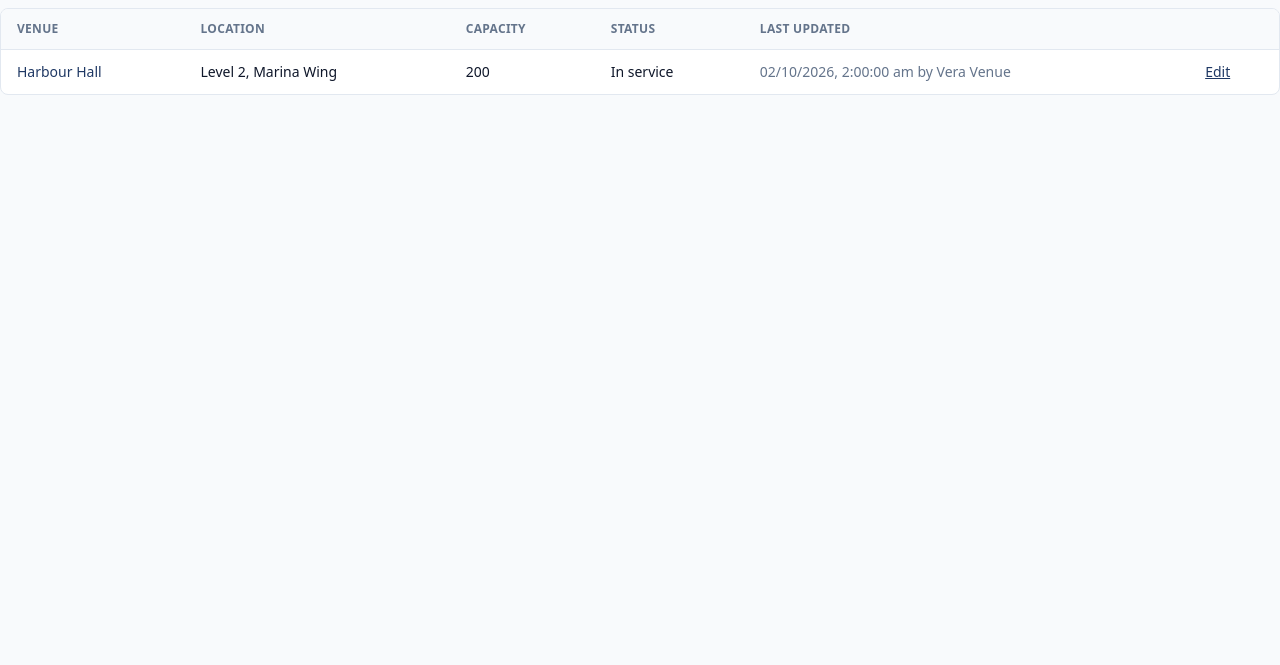
VenueCatalogue (SCRUM-65) › AC2: an update shows who saved it and when
Click the button with aria-label "Edit Harbour Hall" at point(1218, 72), box x1=1205 y1=62 x2=1230 y2=82
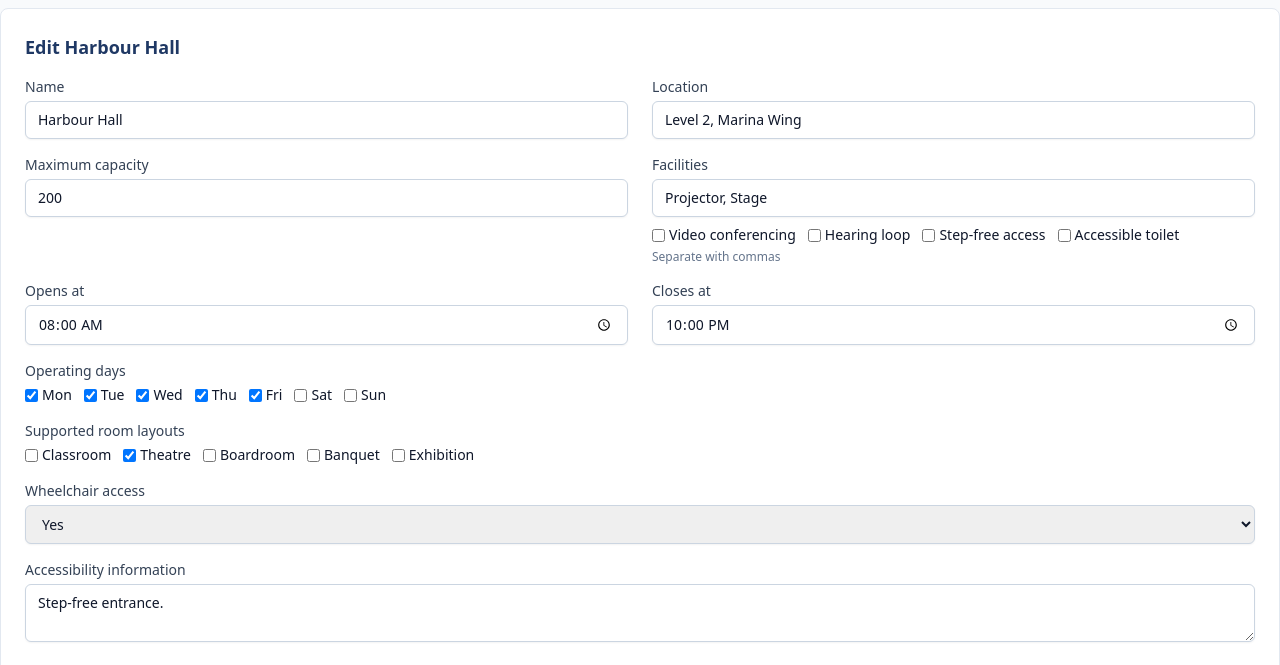
Now the time field labelled "Opens at" holds "08:00", box x1=25 y1=305 x2=628 y2=345
Replace the text in the number field labelled "Maximum capacity" with "220" at point(326, 198), box x1=25 y1=179 x2=628 y2=217
(page scrolled)
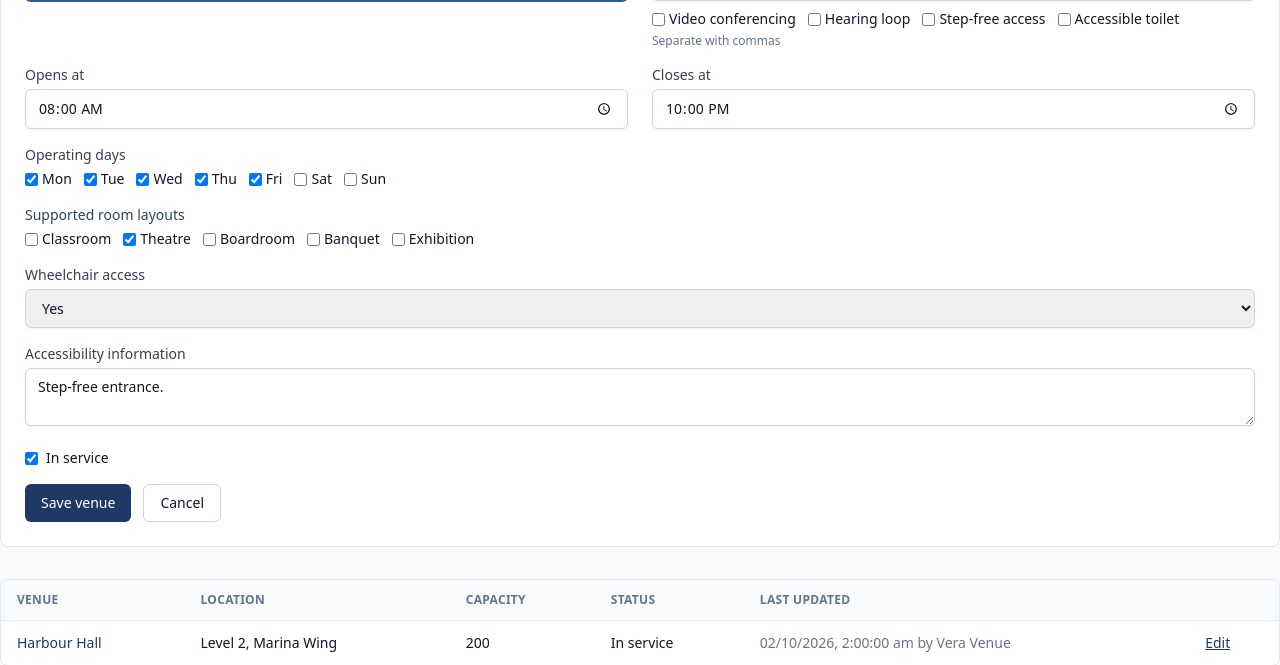
Click the button "Save venue" at point(78, 503), box x1=25 y1=484 x2=131 y2=522
(page scrolled)
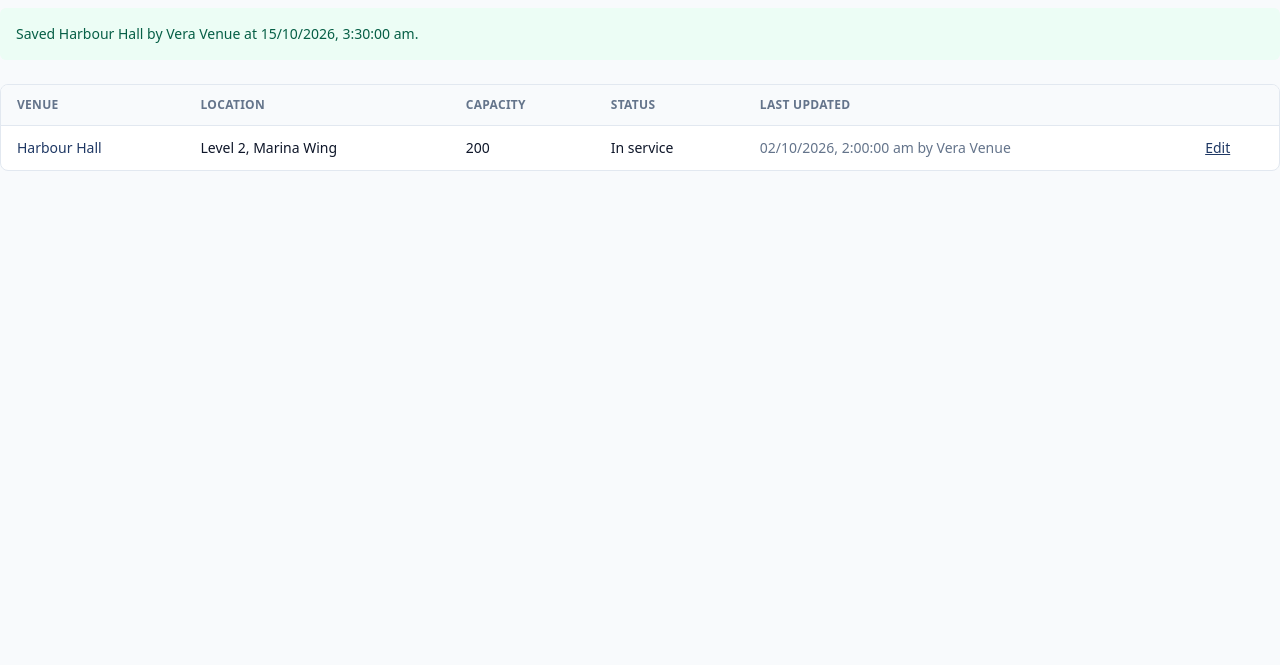
Now the message shows "Saved Harbour Hall by Vera Venue at", box x1=0 y1=8 x2=1279 y2=60
